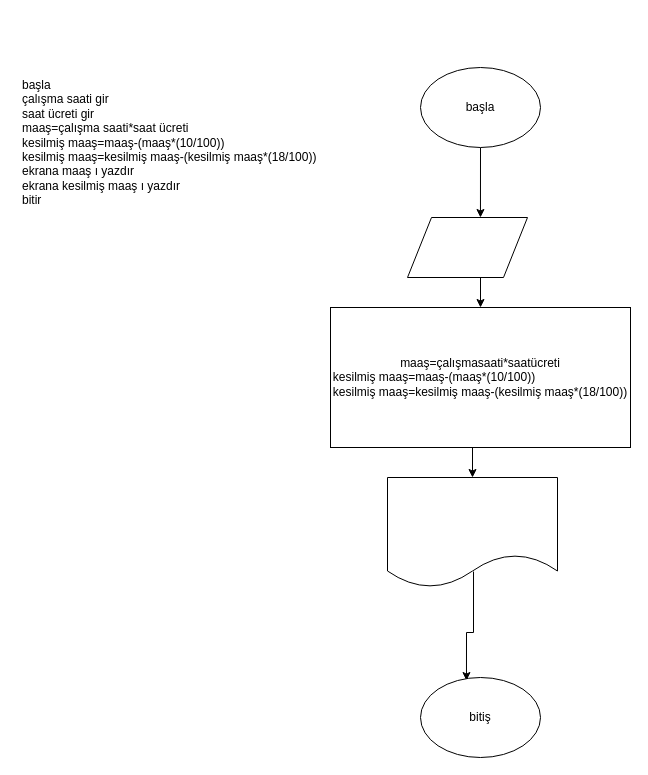
The diagram is 648 pixels wide and 775 high, and some of its shapes have lost their labels. Each missing label, with the centre of its shape:
"ekrana maaş ı yazdır ekrana kesilmiş maaşı yazdır" belongs at point (472, 532).
"çalışmasaati saatücreti" belongs at point (467, 247).
